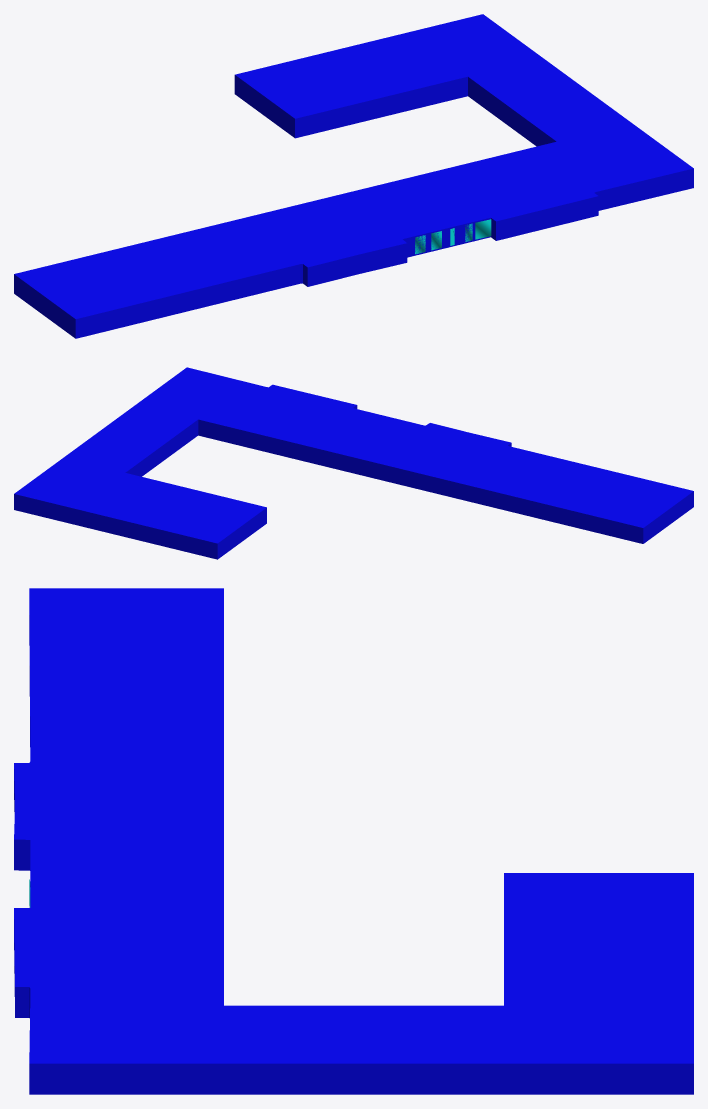
3 renders of one model, top to bottom at view 1: azimuth 30°, elevation 25°; view 2: azimuth 150°, elevation 25°; view 3: azimuth 270°, elevation 25°, orthographic. The views are drawn at different scales.
Visible parts, largest first — view 1: group_out_solid_mesh, group_out_windows_mesh; view 2: group_out_solid_mesh; view 3: group_out_solid_mesh.
Boxes of the visible parts, x1,y1,x2,y2 form: group_out_solid_mesh: (14, 14, 693, 338); group_out_windows_mesh: (415, 219, 491, 254); group_out_solid_mesh: (14, 367, 693, 559); group_out_solid_mesh: (14, 588, 693, 1094).
Bounding box in the file's own units: 99099 × 3000 × 59899.
